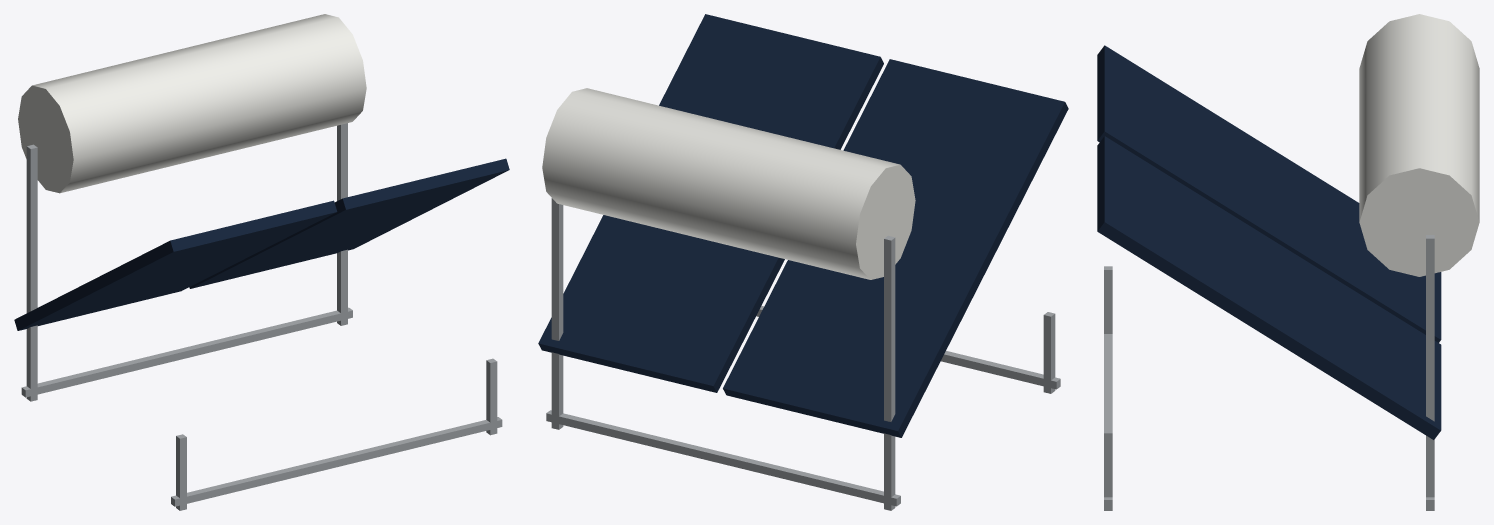
File: solar_water_heater.glb
3 views of the same model, side by side, from view 1: azimuth 30°, elevation 25°; view 2: azimuth 150°, elevation 25°; view 3: azimuth 270°, elevation 25° (orthographic). The views are drawn at different scales.
Parts seen in each view (by area): view 1: unit; view 2: unit; view 3: unit.
Part boxes in pixels (x1,y1,x2,y2): unit: [14, 14, 509, 510]; unit: [538, 14, 1068, 510]; unit: [1097, 14, 1479, 510].
Size of the model in its own units: 1.95 by 1.73 by 1.78.
